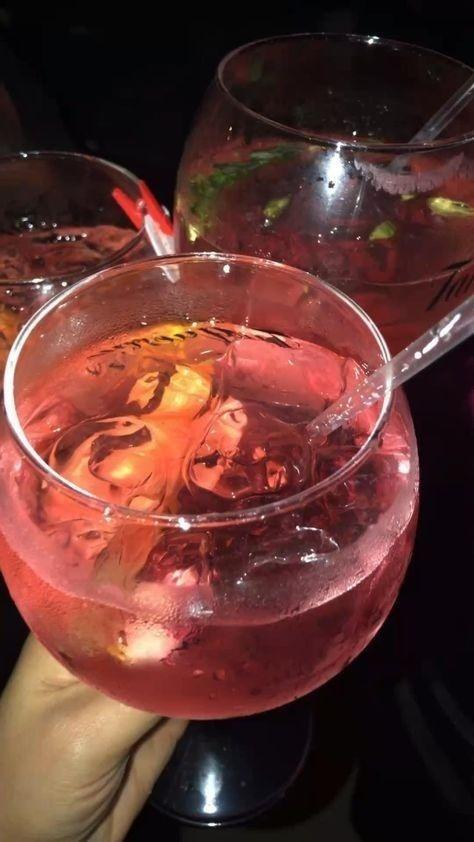glass-wine: (1, 244, 434, 840), (163, 31, 473, 357)
